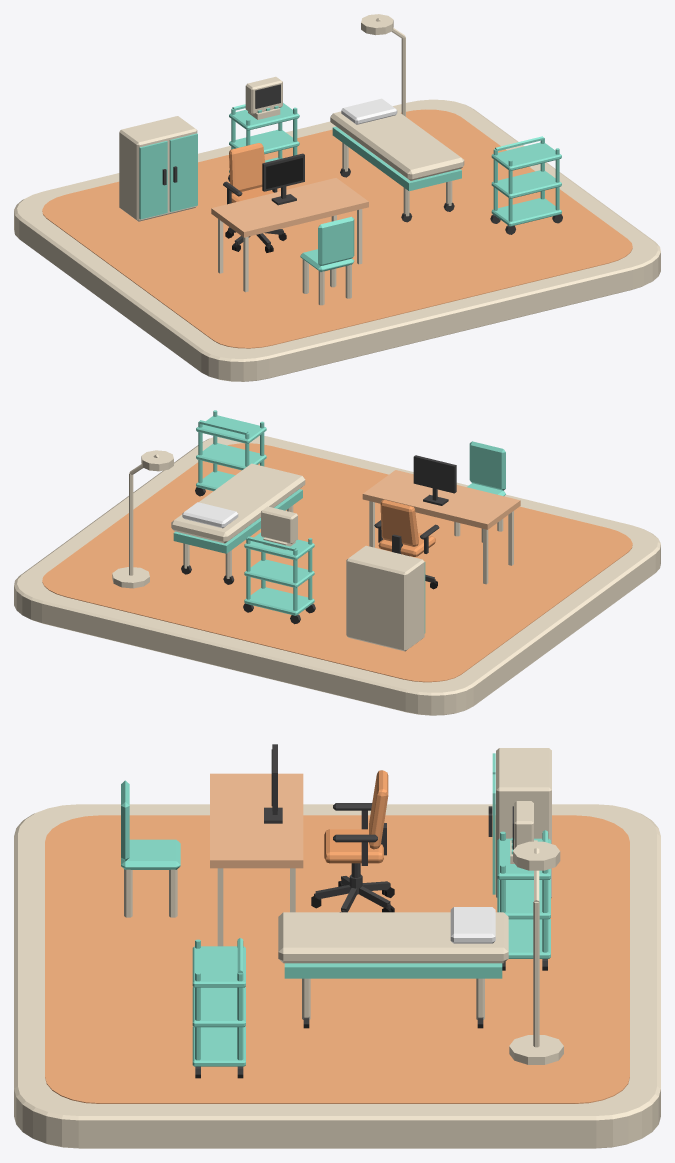
File: room.fbx
The picture shows the model from 3 angles, top to bottom: view 1: azimuth 30°, elevation 25°; view 2: azimuth 150°, elevation 25°; view 3: azimuth 270°, elevation 25°; orthographic projection. The views are drawn at different scales.
Parts seen in each view (by area): view 1: COM-02 Floor Surface, COM-01 Rounded Base Direct, Top, Mattress, Equipment case, COM-04_Chair_blender_direct, Door, Door.001, Backrest, Frame, Base, Tray.002 (+7 smaller); view 2: COM-02 Floor Surface, COM-01 Rounded Base Direct, Equipment case, Top, Mattress, COM-04_Chair_blender_direct, Backrest, Frame, Base, Housing, Tray.003, Tray.004 (+8 smaller); view 3: COM-02 Floor Surface, COM-01 Rounded Base Direct, Mattress, Top, COM-04_Chair_blender_direct, Equipment case, Base, Tray.002, Tray.001, Tray, Pillow, Seat (+9 smaller).
Boxes of the visible parts, x1=… form: COM-02 Floor Surface: x1=42, y1=109, x2=632, y2=348; COM-01 Rounded Base Direct: x1=14, y1=99, x2=660, y2=381; Top: x1=211, y1=178, x2=368, y2=292; Mattress: x1=330, y1=111, x2=464, y2=180; Equipment case: x1=119, y1=116, x2=197, y2=221; COM-04_Chair_blender_direct: x1=223, y1=143, x2=286, y2=252; Door: x1=139, y1=141, x2=167, y2=219; Door.001: x1=169, y1=133, x2=197, y2=211; Backrest: x1=318, y1=216, x2=354, y2=265; Frame: x1=262, y1=153, x2=304, y2=205; Base: x1=332, y1=126, x2=461, y2=191; Tray.002: x1=491, y1=142, x2=561, y2=171; COM-02 Floor Surface: x1=42, y1=443, x2=632, y2=682; COM-01 Rounded Base Direct: x1=14, y1=435, x2=660, y2=715; Equipment case: x1=346, y1=545, x2=424, y2=651; Top: x1=362, y1=470, x2=520, y2=584; Mattress: x1=171, y1=463, x2=305, y2=543; COM-04_Chair_blender_direct: x1=374, y1=499, x2=439, y2=589; Backrest: x1=469, y1=441, x2=505, y2=490; Frame: x1=413, y1=455, x2=456, y2=505; Base: x1=173, y1=489, x2=302, y2=553; Housing: x1=261, y1=506, x2=297, y2=543; Tray.003: x1=244, y1=587, x2=314, y2=615; Tray.004: x1=244, y1=559, x2=314, y2=587; COM-02 Floor Surface: x1=45, y1=815, x2=629, y2=1103; COM-01 Rounded Base Direct: x1=14, y1=804, x2=660, y2=1148; Mattress: x1=278, y1=912, x2=508, y2=963; Top: x1=210, y1=773, x2=303, y2=946; COM-04_Chair_blender_direct: x1=311, y1=770, x2=394, y2=912; Equipment case: x1=496, y1=748, x2=551, y2=897; Base: x1=284, y1=963, x2=502, y2=978; Tray.002: x1=192, y1=946, x2=245, y2=987; Tray.001: x1=192, y1=987, x2=245, y2=1027; Tray: x1=192, y1=1026, x2=245, y2=1066; Pillow: x1=450, y1=907, x2=495, y2=943; Seat: x1=121, y1=839, x2=180, y2=869.
Size of the model in its own units: 600 by 196 by 520.
